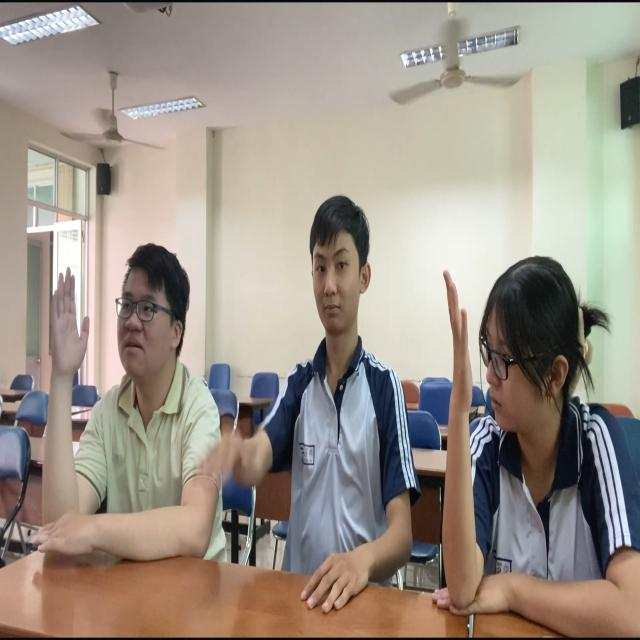raise_hand: (434, 196, 634, 625), (7, 228, 234, 579)
